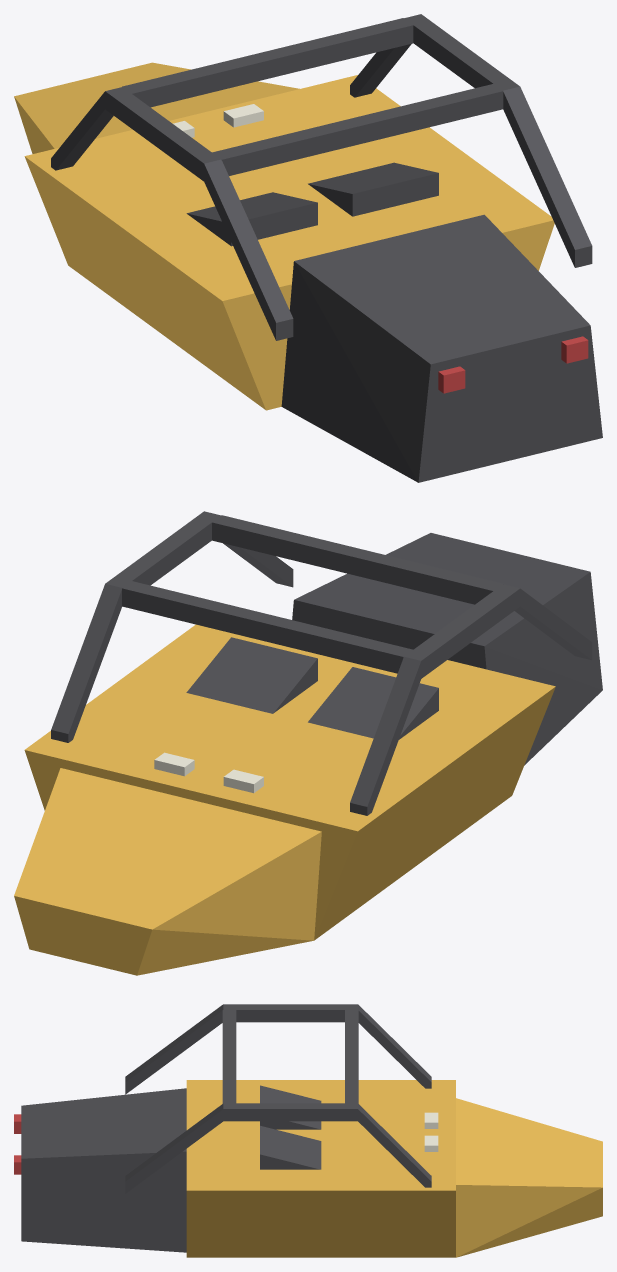
The model's file is dune_buggy.glb.
3 views of the same model, one above another, from view 1: azimuth 30°, elevation 25°; view 2: azimuth 150°, elevation 25°; view 3: azimuth 270°, elevation 25° (orthographic). The views are drawn at different scales.
Parts seen in each view (by area): view 1: Dune Buggy; view 2: Dune Buggy; view 3: Dune Buggy.
Part boxes in pixels (x1,y1,x2,y2): Dune Buggy: (14,14,602,482); Dune Buggy: (14,511,602,975); Dune Buggy: (14,1004,602,1257).
Bounding box in the file's own units: 1.54 × 1.04 × 3.46.
